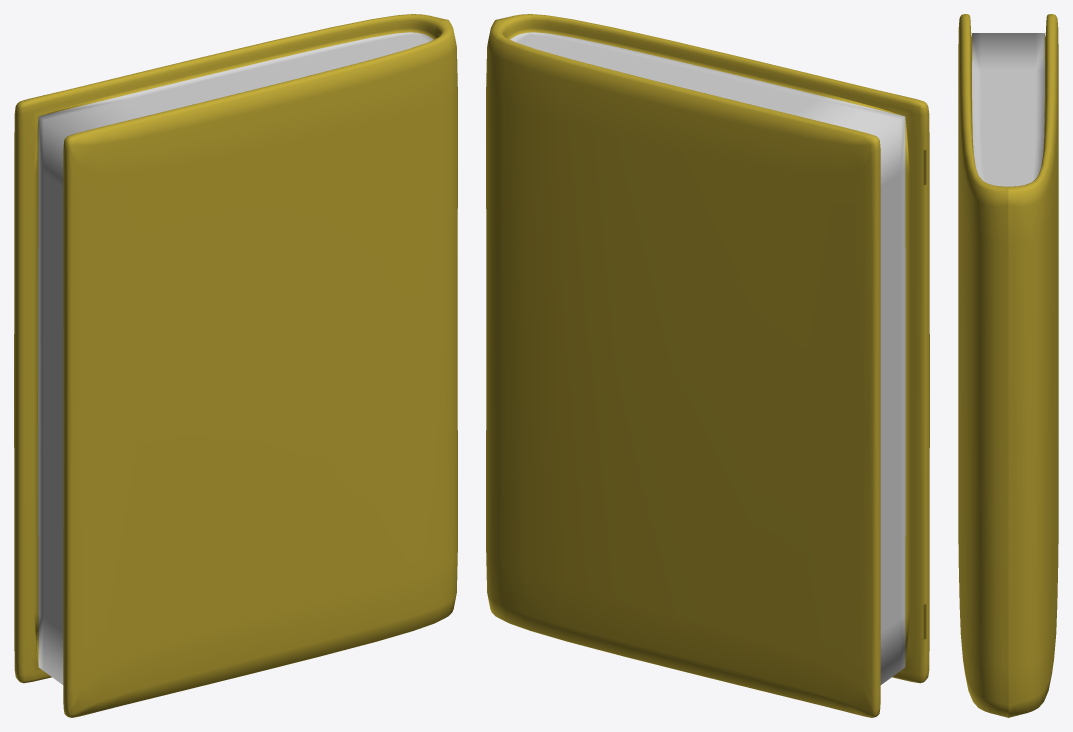
The model's file is Book.fbx.
3 views of the same model, side by side, from view 1: azimuth 30°, elevation 25°; view 2: azimuth 150°, elevation 25°; view 3: azimuth 270°, elevation 25° (orthographic). The views are drawn at different scales.
Visible parts, largest first — view 1: Book; view 2: Book; view 3: Book.
Boxes of the visible parts, x1,y1,x2,y2 form: Book: [14, 14, 457, 717]; Book: [486, 14, 929, 717]; Book: [958, 14, 1058, 717].
Size of the model in its own units: 77.77 by 105 by 18.15.
